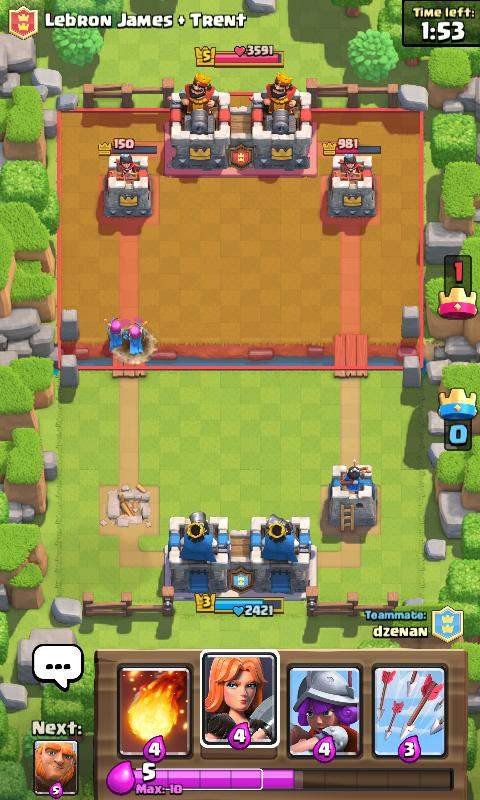ally_archer: (123, 318, 148, 354), (104, 315, 122, 351)
